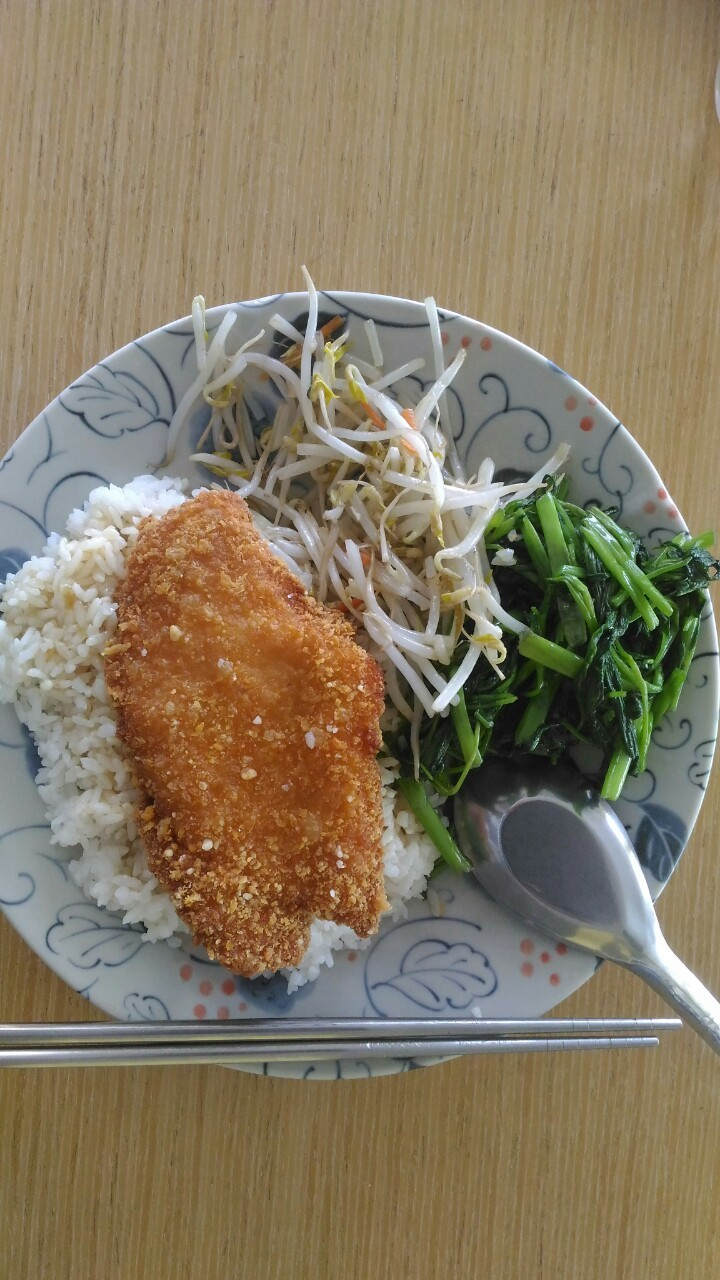fried_chicken: (129, 572, 379, 889)
mung_bean_sprouts: (274, 410, 485, 586)
rice: (26, 520, 126, 784)
water_spinach: (510, 493, 688, 790)
